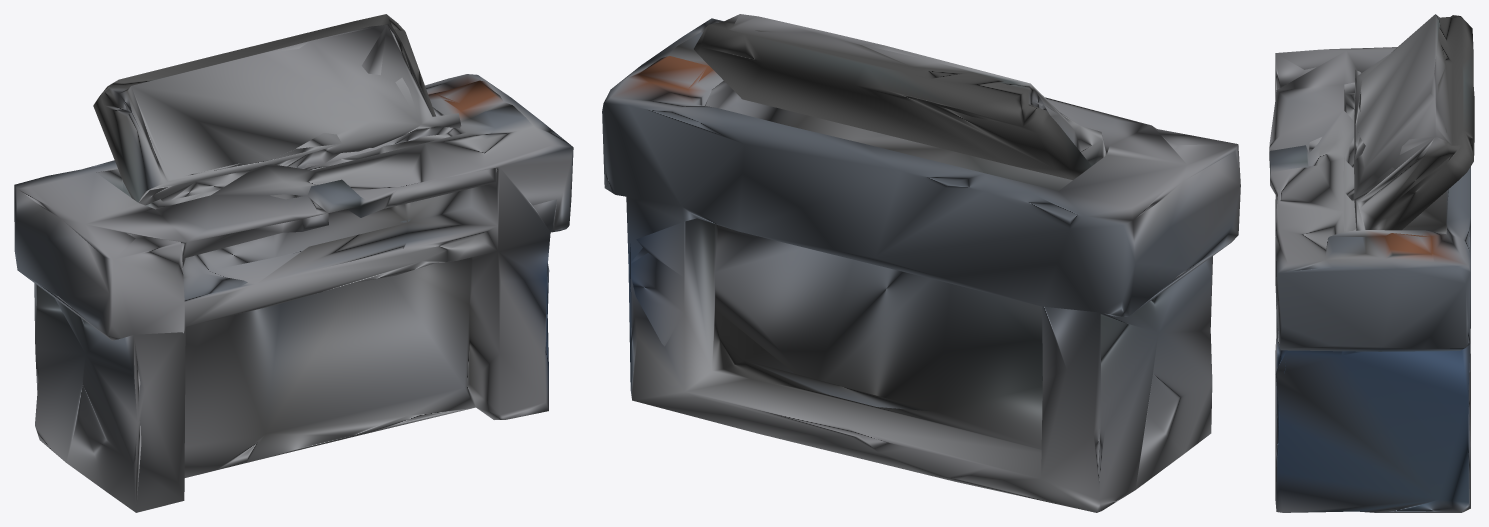
File: gen3d-printer-lod1.glb
3 renders of one model, left to right at view 1: azimuth 30°, elevation 25°; view 2: azimuth 150°, elevation 25°; view 3: azimuth 270°, elevation 25°, orthographic. The views are drawn at different scales.
Visible parts, largest first — view 1: part_0; view 2: part_0; view 3: part_0.
Part boxes in pixels (x1,y1,x2,y2): part_0: (14, 14, 573, 512); part_0: (602, 14, 1240, 512); part_0: (1269, 14, 1474, 512).
Bounding box in the file's own units: 1.39 × 0.9991 × 0.5453.
